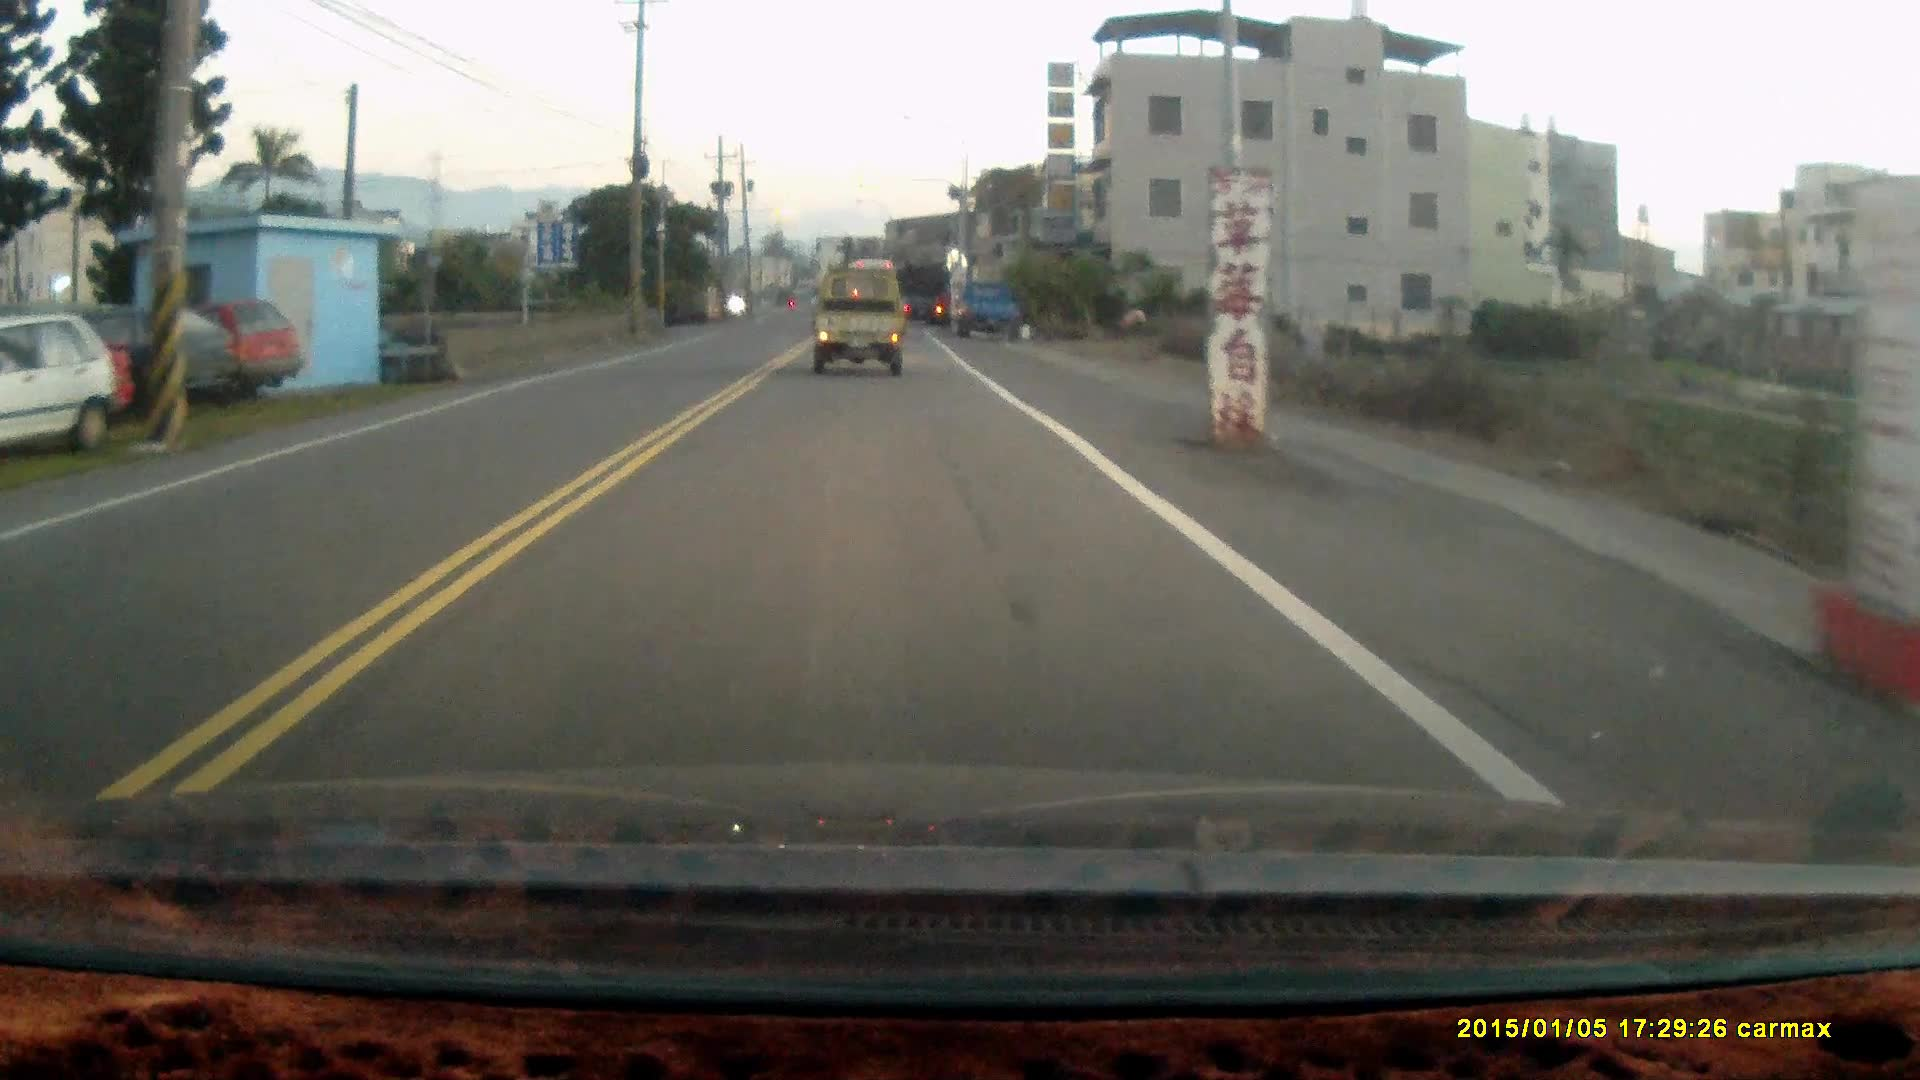vehicle: (20, 303, 249, 413), (78, 295, 295, 400), (1, 315, 117, 456), (814, 277, 909, 376), (955, 276, 1030, 339), (893, 260, 952, 326)
